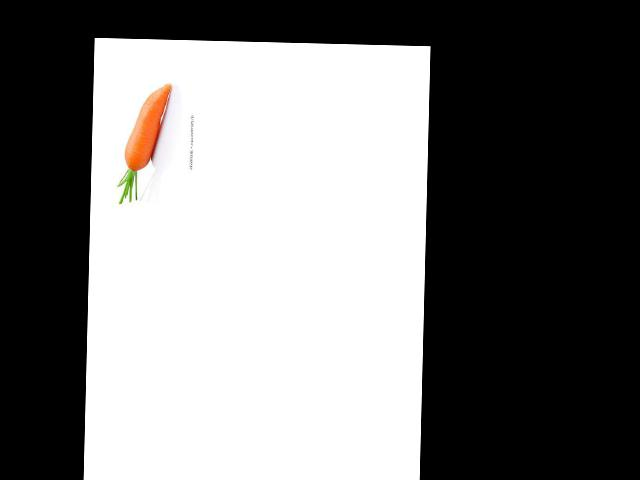carrot: (121, 79, 173, 173)
